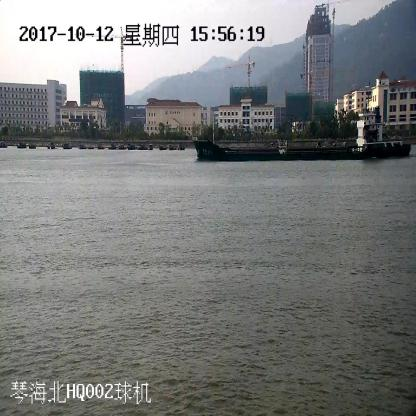Bulk Carrier: (194, 107, 410, 158)
